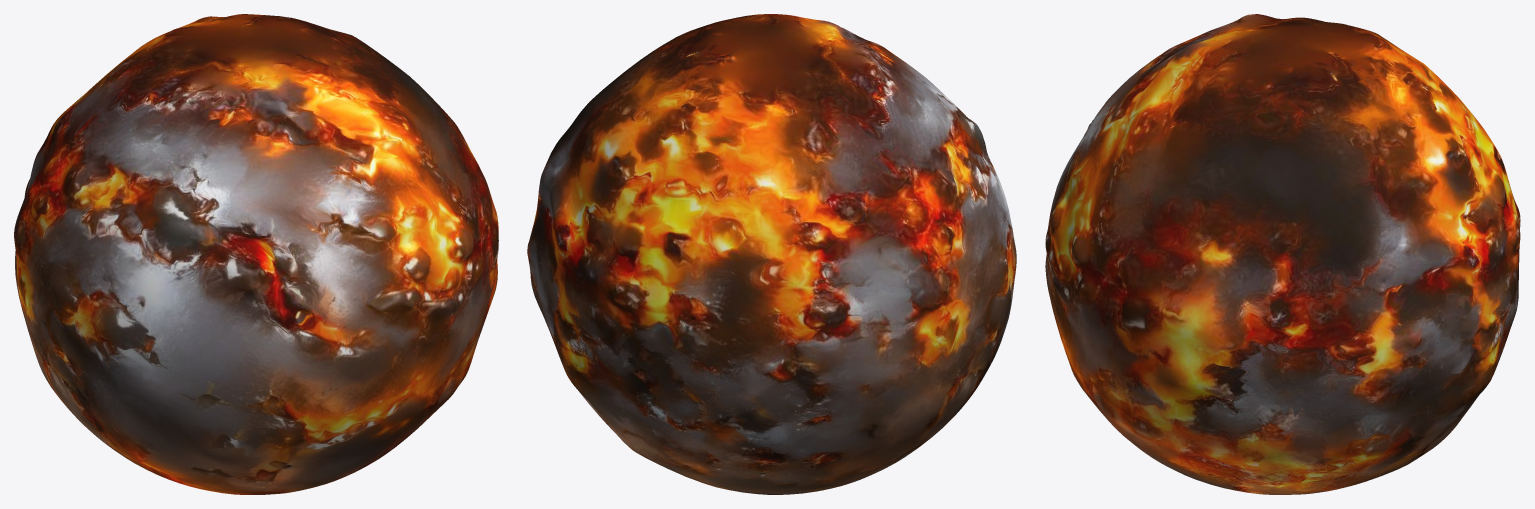
The model's file is molten_sphere_small.glb.
3 views of the same model, side by side, from view 1: azimuth 30°, elevation 25°; view 2: azimuth 150°, elevation 25°; view 3: azimuth 270°, elevation 25° (orthographic).
Parts seen in each view (by area): view 1: knife_mesh; view 2: knife_mesh; view 3: knife_mesh.
Boxes of the visible parts, box(x1,y1,x2,y2) form: knife_mesh: box(14, 14, 498, 494); knife_mesh: box(527, 14, 1016, 494); knife_mesh: box(1045, 14, 1520, 494).
Bounding box in the file's own units: 1.17 × 1.13 × 1.12.
Materials: 1 (1 with a texture image).
